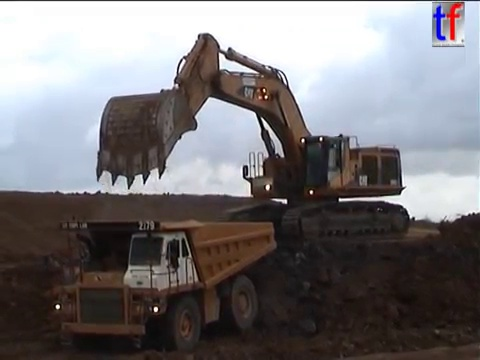excavator: (93, 30, 413, 248)
truck: (47, 214, 279, 354)
